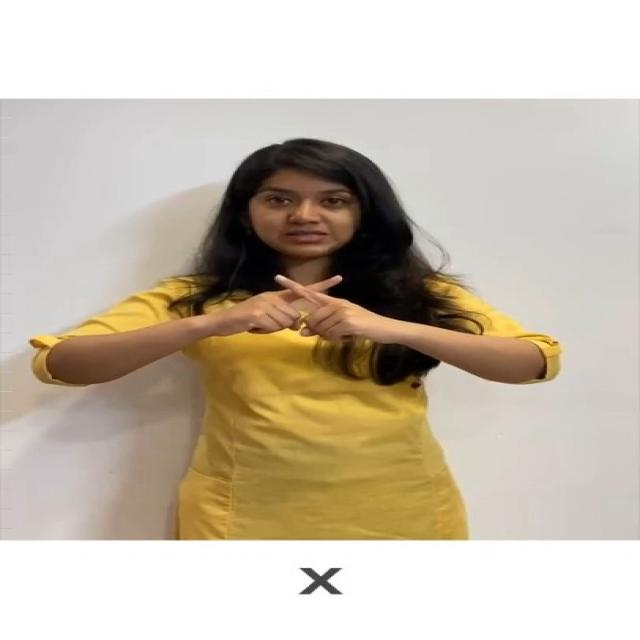X: (205, 268, 400, 349)
